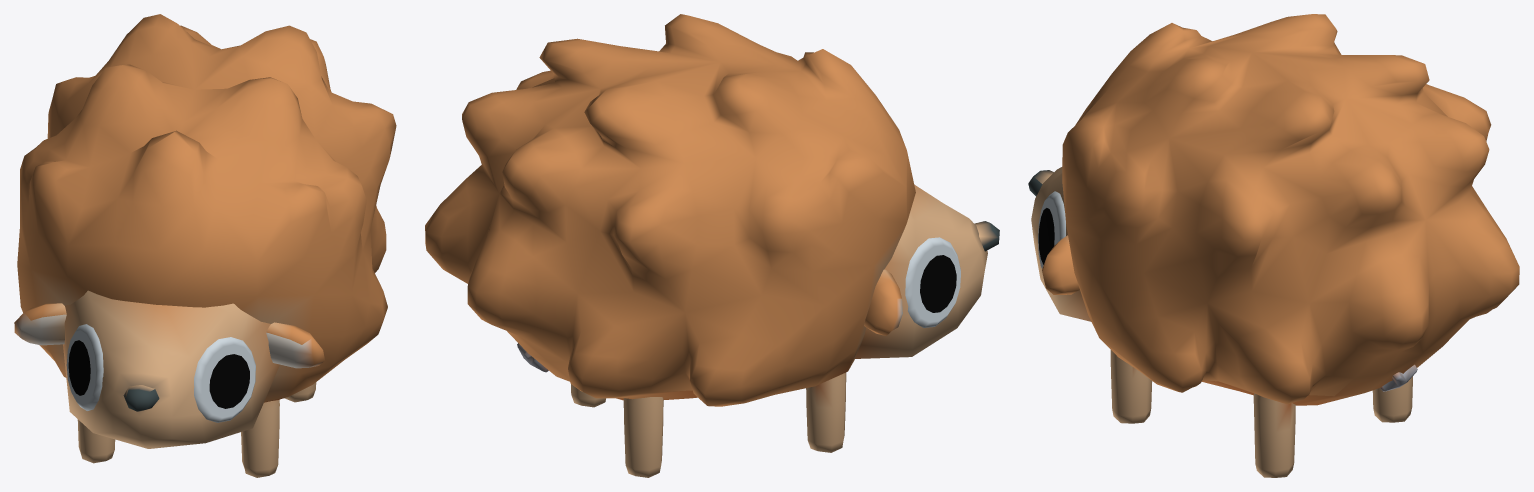
Rendered from Hedgehog.glb.
3 views of the same model, side by side, from view 1: azimuth 30°, elevation 25°; view 2: azimuth 150°, elevation 25°; view 3: azimuth 270°, elevation 25° (orthographic). The views are drawn at different scales.
Visible parts, largest first — view 1: 66; view 2: 66; view 3: 66.
Part boxes in pixels (<box>): 66: <box>14,14,396,477</box>; 66: <box>425,14,999,477</box>; 66: <box>1028,14,1519,477</box>.
Size of the model in its own units: 0.6535 by 0.586 by 0.6862.
